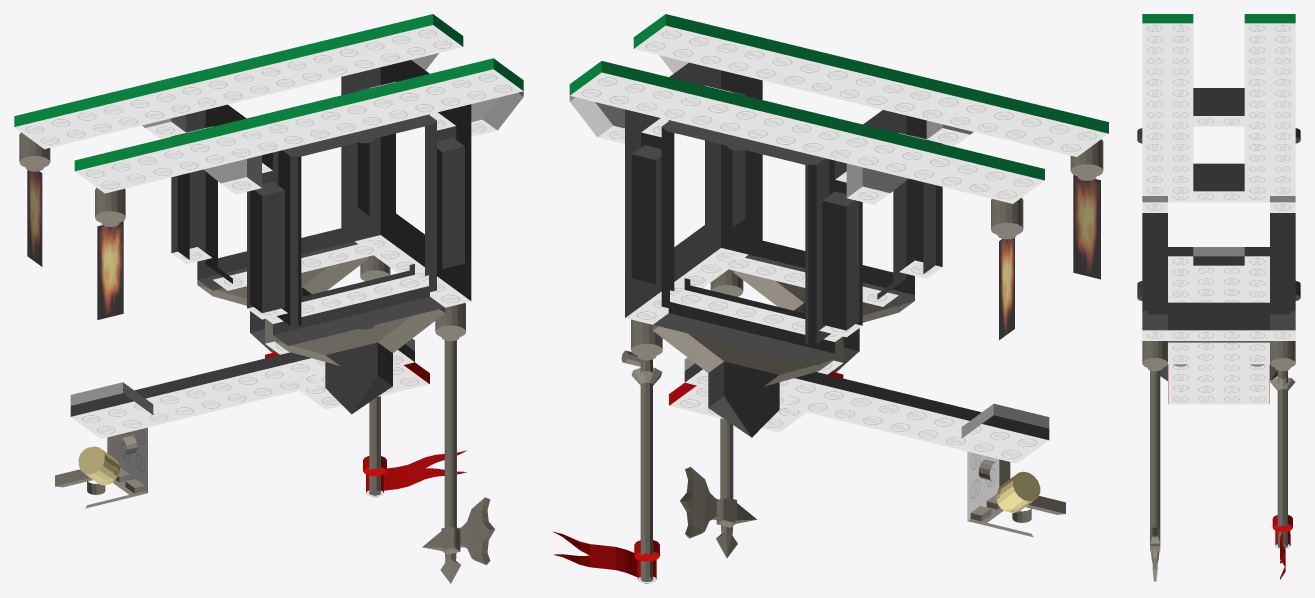
The picture shows the model from 3 angles, left to right: view 1: azimuth 30°, elevation 25°; view 2: azimuth 150°, elevation 25°; view 3: azimuth 270°, elevation 25°; orthographic projection. The views are drawn at different scales.
Parts seen in each view (by area): view 1: 048_shape30, 060_shape33, 016_OC6096-3_Part_5.1, 043_shape25, 041_shape23, 029_shape13, 070_shape40, 058_shape32, 036_shape18, 007_OC6096-3_Part_6, 059_shape32, 024_L_449500_flag_Red (+4 smaller); view 2: 048_shape30, 060_shape33, 016_OC6096-3_Part_5.1, 043_shape25, 029_shape13, 036_shape18, 041_shape23, 070_shape40, 058_shape32, 007_OC6096-3_Part_6, 024_L_449500_flag_Red, 059_shape32 (+3 smaller); view 3: 060_shape33, 048_shape30, 016_OC6096-3_Part_5.1, 036_shape18, 007_OC6096-3_Part_6, 041_shape23, 029_shape13, 038_shape20, 022_L_449500_pole_Red.
Boxes of the visible parts, x1=… form: 048_shape30: x1=171, y1=60, x2=471, y2=345; 060_shape33: x1=14, y1=14, x2=523, y2=193; 016_OC6096-3_Part_5.1: x1=70, y1=318, x2=414, y2=438; 043_shape25: x1=197, y1=256, x2=445, y2=414; 041_shape23: x1=422, y1=340, x2=494, y2=583; 029_shape13: x1=142, y1=53, x2=523, y2=194; 070_shape40: x1=55, y1=427, x2=147, y2=508; 058_shape32: x1=97, y1=221, x2=123, y2=319; 036_shape18: x1=360, y1=255, x2=390, y2=497; 007_OC6096-3_Part_6: x1=265, y1=352, x2=429, y2=409; 059_shape32: x1=27, y1=170, x2=42, y2=266; 024_L_449500_flag_Red: x1=385, y1=450, x2=466, y2=490; 048_shape30: x1=625, y1=62, x2=942, y2=365; 060_shape33: x1=569, y1=14, x2=1108, y2=203; 016_OC6096-3_Part_5.1: x1=684, y1=336, x2=1049, y2=463; 043_shape25: x1=652, y1=270, x2=914, y2=437; 029_shape13: x1=569, y1=55, x2=973, y2=204; 036_shape18: x1=621, y1=319, x2=662, y2=583; 041_shape23: x1=680, y1=418, x2=756, y2=557; 070_shape40: x1=967, y1=451, x2=1065, y2=537; 058_shape32: x1=1073, y1=175, x2=1100, y2=279; 007_OC6096-3_Part_6: x1=669, y1=371, x2=843, y2=432; 024_L_449500_flag_Red: x1=552, y1=531, x2=636, y2=576; 059_shape32: x1=999, y1=238, x2=1014, y2=340; 060_shape33: x1=1142, y1=14, x2=1295, y2=195; 048_shape30: x1=1137, y1=88, x2=1300, y2=340; 016_OC6096-3_Part_5.1: x1=1168, y1=247, x2=1269, y2=394; 036_shape18: x1=1270, y1=341, x2=1295, y2=545; 007_OC6096-3_Part_6: x1=1168, y1=364, x2=1269, y2=404; 041_shape23: x1=1150, y1=370, x2=1160, y2=581; 029_shape13: x1=1142, y1=196, x2=1295, y2=212; 038_shape20: x1=1142, y1=341, x2=1167, y2=371; 022_L_449500_pole_Red: x1=1272, y1=515, x2=1292, y2=548.
Size of the model in its own units: 13.59 by 14.4 by 5.12.
13 materials, 4 textured.
